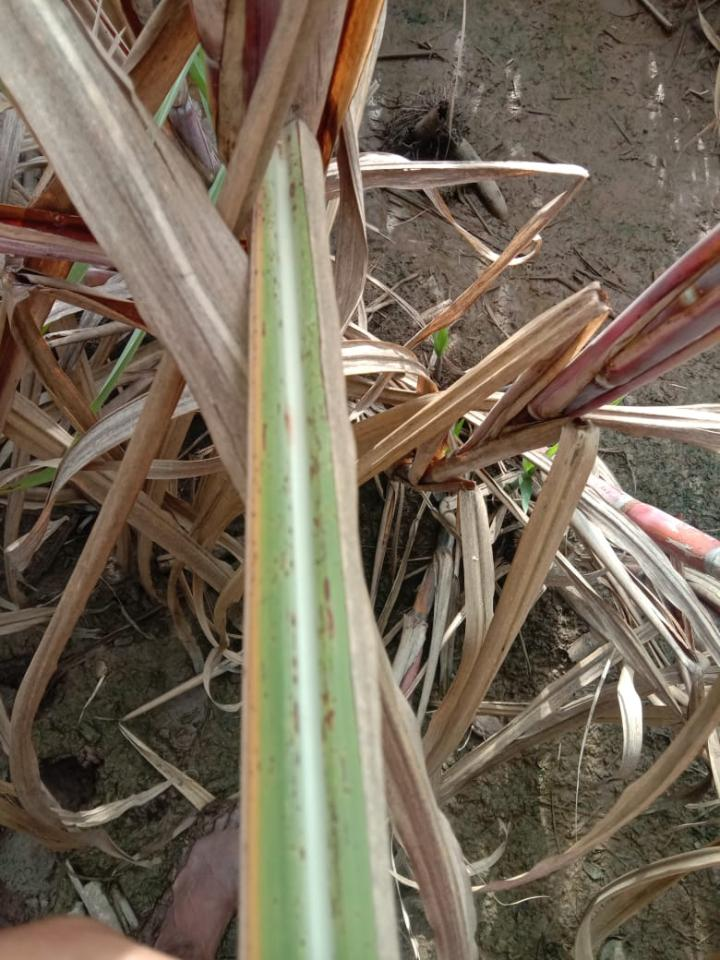Rust: (322, 576, 337, 641), (319, 691, 335, 743), (290, 698, 302, 735), (308, 454, 321, 482), (288, 654, 300, 684), (259, 422, 268, 451), (311, 511, 322, 530), (288, 181, 296, 197), (261, 321, 267, 337), (286, 133, 292, 143), (291, 204, 297, 211)
Yellow: (239, 185, 263, 959)
